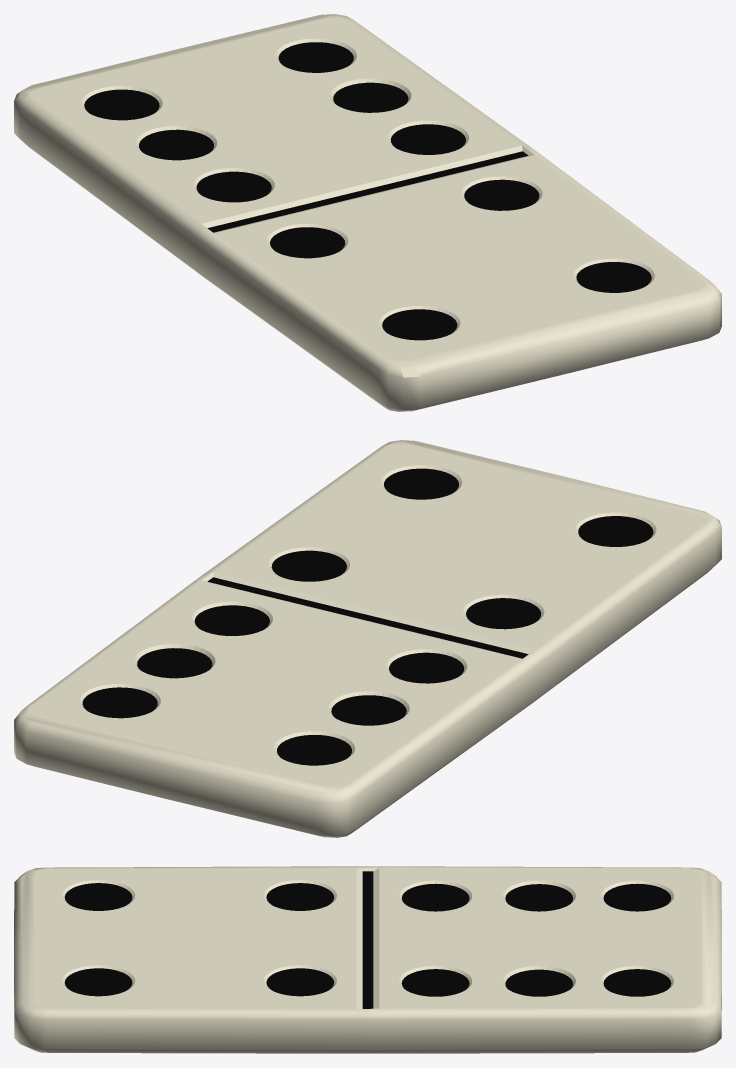
File: Domino_4_6.glb
3 views of the same model, one above another, from view 1: azimuth 30°, elevation 25°; view 2: azimuth 150°, elevation 25°; view 3: azimuth 270°, elevation 25° (orthographic). The views are drawn at different scales.
Parts seen in each view (by area): view 1: Domino_4_6_A.001, Domino_4_6_B.001; view 2: Domino_4_6_B.001, Domino_4_6_A.001; view 3: Domino_4_6_A.001, Domino_4_6_B.001.
Part boxes in pixels (x1=…): Domino_4_6_A.001: x1=197, y1=149, x2=721, y2=411; Domino_4_6_B.001: x1=14, y1=14, x2=533, y2=276; Domino_4_6_B.001: x1=14, y1=575, x2=538, y2=837; Domino_4_6_A.001: x1=202, y1=440, x2=721, y2=702; Domino_4_6_A.001: x1=14, y1=866, x2=367, y2=1053; Domino_4_6_B.001: x1=368, y1=866, x2=721, y2=1053.
Size of the model in its own units: 0.7725 by 0.1053 by 1.54.
